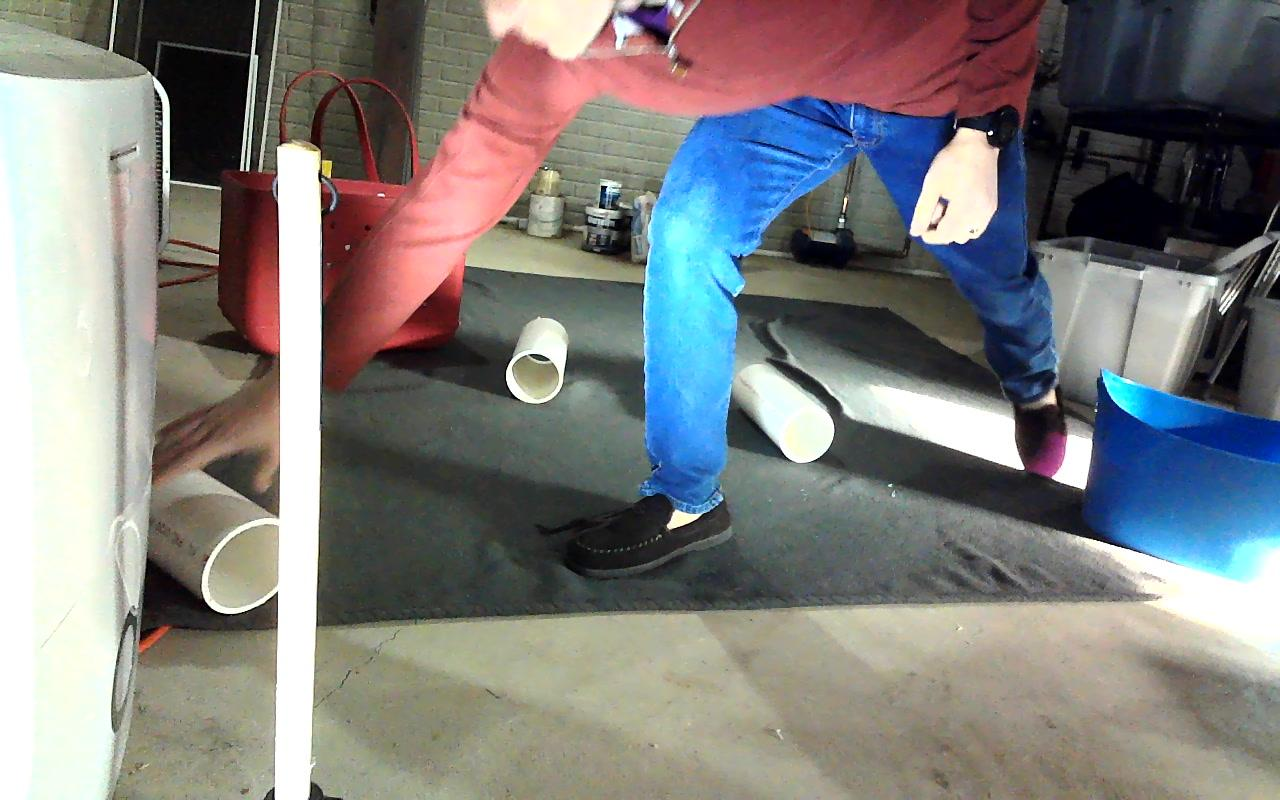coral: (141, 427, 280, 613), (734, 361, 833, 462), (505, 316, 568, 403)
